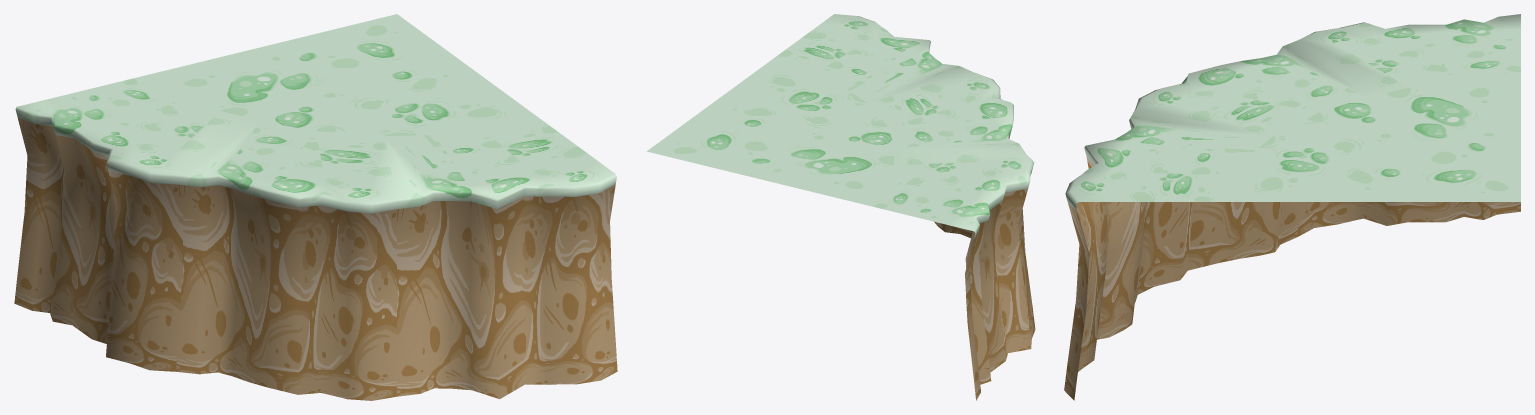
File: SM_tille_curve_outside_01.fbx
The picture shows the model from 3 angles, left to right: view 1: azimuth 30°, elevation 25°; view 2: azimuth 150°, elevation 25°; view 3: azimuth 270°, elevation 25°; orthographic projection. The views are drawn at different scales.
Visible parts, largest first — view 1: SM_tille_curve_outside_01; view 2: SM_tille_curve_outside_01; view 3: SM_tille_curve_outside_01.
Boxes of the visible parts, x1,y1,x2,y2 form: SM_tille_curve_outside_01: (14, 14, 617, 400); SM_tille_curve_outside_01: (647, 14, 1035, 400); SM_tille_curve_outside_01: (1064, 14, 1520, 400).
Bounding box in the file's own units: 3552 × 1740 × 3624.
